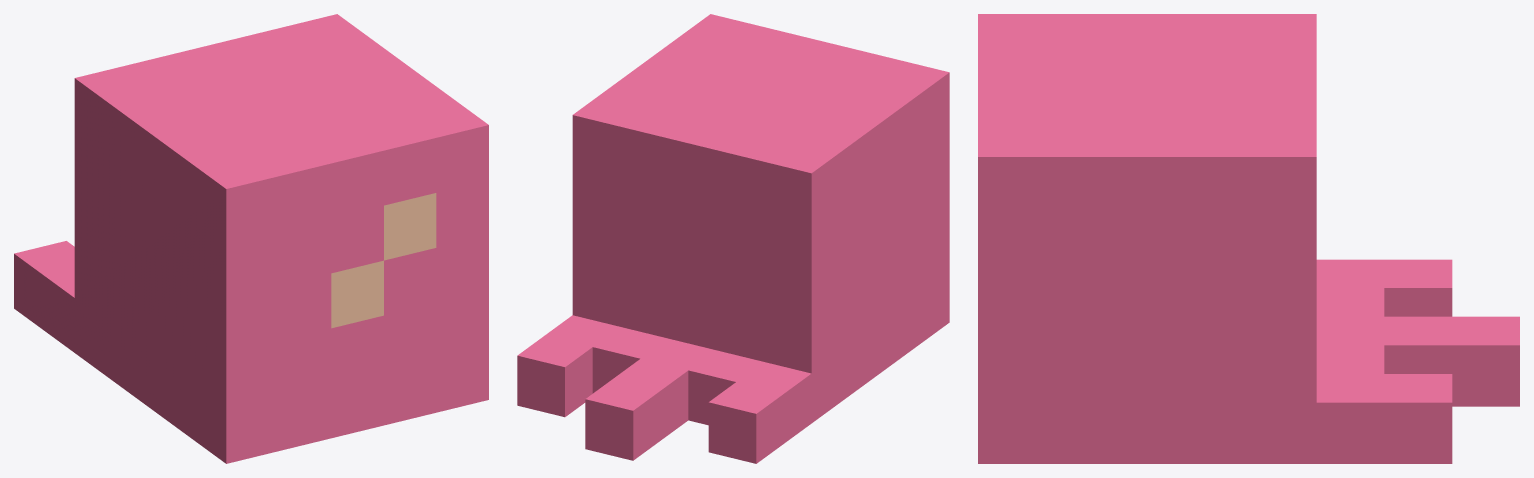
The model's file is blob_c.obj.
3 renders of one model, left to right at view 1: azimuth 30°, elevation 25°; view 2: azimuth 150°, elevation 25°; view 3: azimuth 270°, elevation 25°, orthographic. The views are drawn at different scales.
Size of the model in its own units: 0.5 by 0.5 by 0.8.
1 material, 1 textured.
